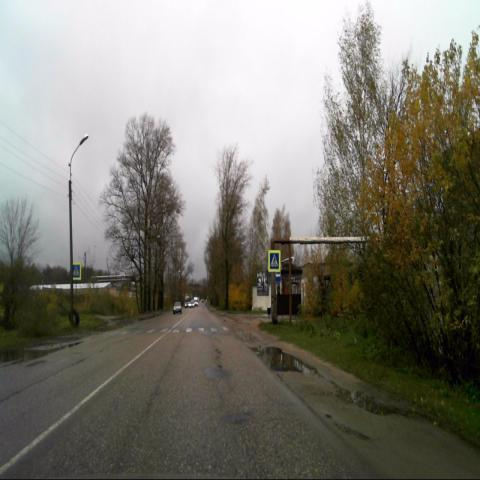5_19_1: (268, 250, 280, 273), (71, 260, 81, 281)
